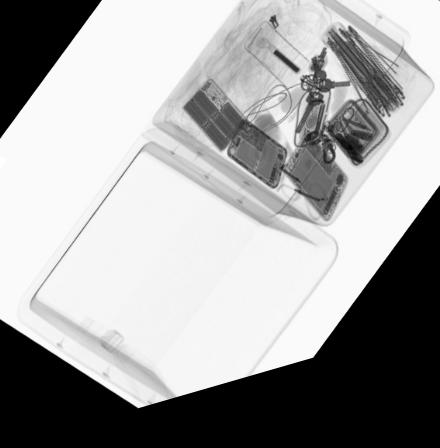Powerbank: (179, 87, 247, 163)
